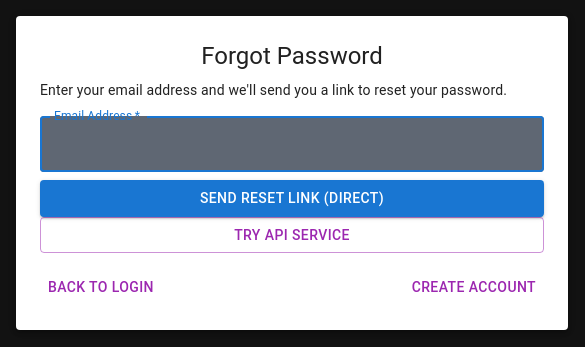
Test: ForgotPassword Page › handles successful direct password reset request
// Enter email - find the input by its ID instead of label
Type "test@example.com" into the field labelled "Email Address *".
click(292, 144); type("test@example.com")  # box [40,116,544,172]
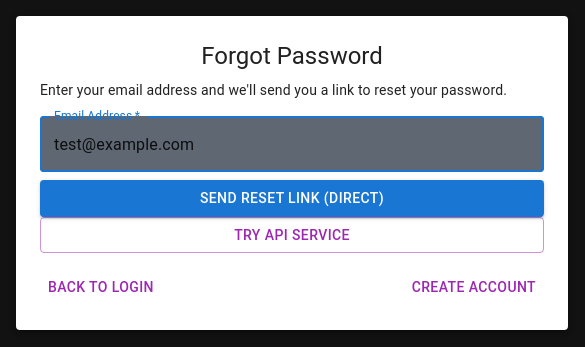
// Submit the form
Click the button "Send Reset Link (Direct)".
click(292, 198)  # box [40,180,544,216]
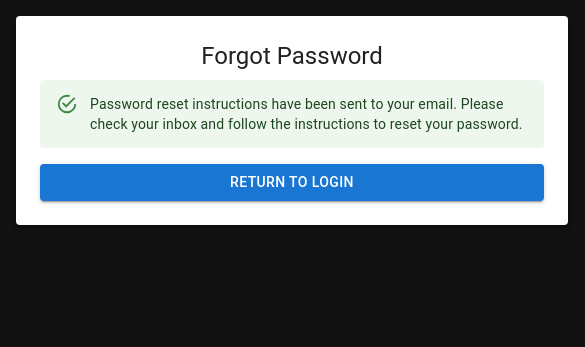
Check: the text "Password reset instructions have been sent to your email" is shown, box [90,96,523,132]
Check: the link "Return to Login" is shown, box [40,164,544,200]
